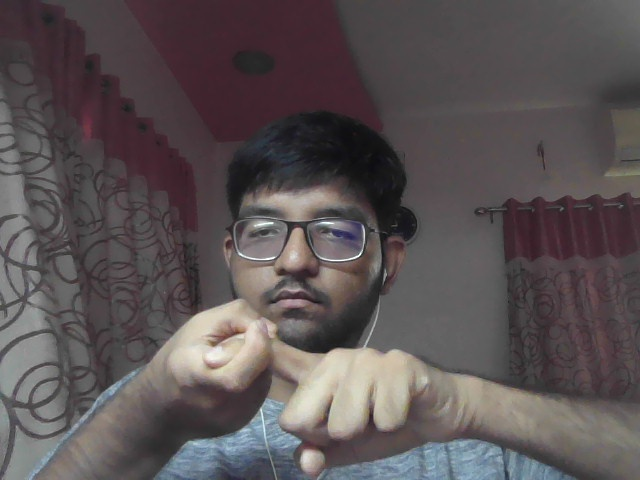મિત્ર: (103, 293, 479, 478)
